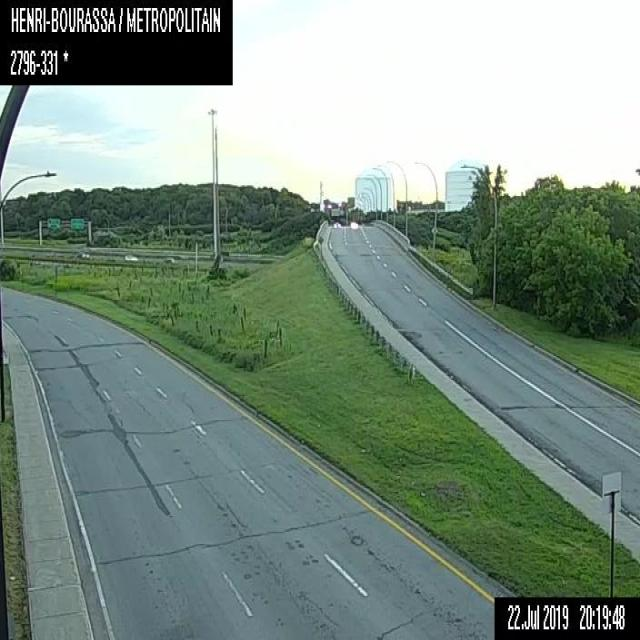vehicle: (124, 253, 137, 260), (77, 251, 88, 257), (333, 221, 340, 228)
